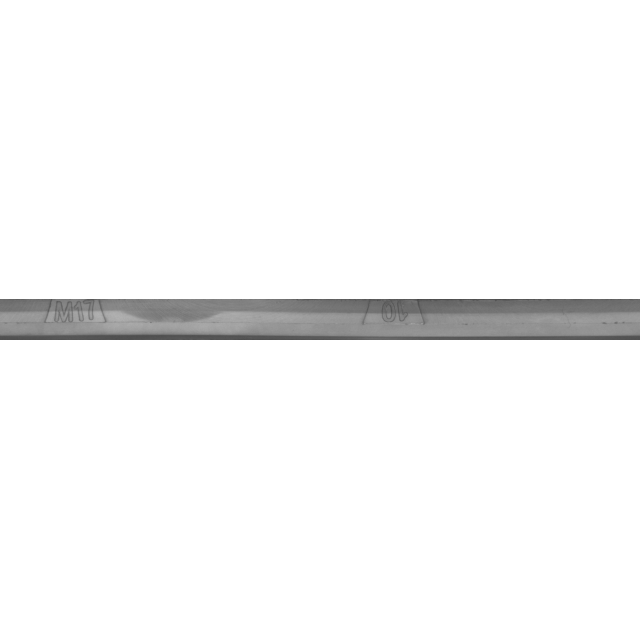mohao: (0, 270, 170, 370)
xuehao: (300, 270, 500, 370)
